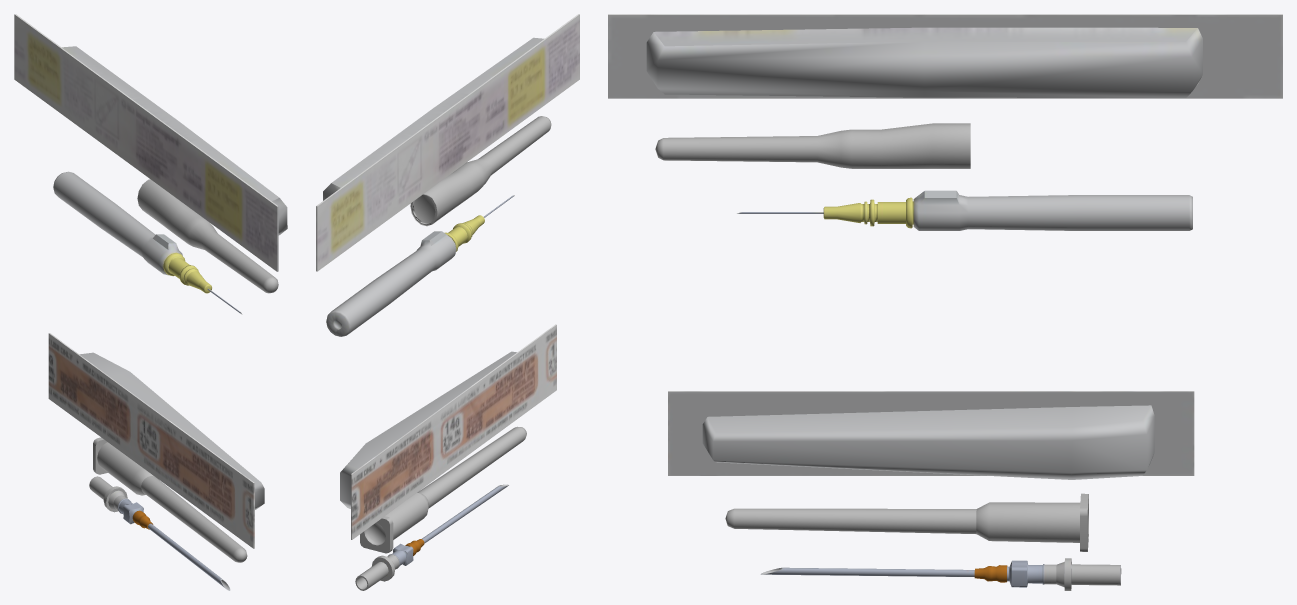
Rendered from needles.obj.
3 renders of one model, left to right at view 1: azimuth 30°, elevation 25°; view 2: azimuth 150°, elevation 25°; view 3: azimuth 270°, elevation 25°, orthographic. The views are drawn at different scales.
Parts seen in each view (by area): view 1: Package_7x19_All_Tools_0, Package_57_All_Tools_0, Needle_7x19_All_Tools_0, Case_7x19_All_Tools_0, Case_57_All_Tools_0, Needle_57_All_Tools_0; view 2: Package_7x19_All_Tools_0, Package_57_All_Tools_0, Needle_7x19_All_Tools_0, Case_57_All_Tools_0, Case_7x19_All_Tools_0, Needle_57_All_Tools_0; view 3: Package_7x19_All_Tools_0, Package_57_All_Tools_0, Needle_7x19_All_Tools_0, Case_57_All_Tools_0, Case_7x19_All_Tools_0, Needle_57_All_Tools_0.
Boxes of the visible parts, x1,y1,x2,y2 form: Package_7x19_All_Tools_0: (14,14,287,271); Package_57_All_Tools_0: (48,333,264,548); Needle_7x19_All_Tools_0: (53,171,242,314); Case_7x19_All_Tools_0: (137,179,278,293); Case_57_All_Tools_0: (93,437,247,562); Needle_57_All_Tools_0: (89,476,230,590); Package_7x19_All_Tools_0: (316,14,579,271); Package_57_All_Tools_0: (340,324,556,539); Needle_7x19_All_Tools_0: (326,195,514,336); Case_57_All_Tools_0: (360,426,526,553); Case_7x19_All_Tools_0: (410,116,551,226); Needle_57_All_Tools_0: (355,484,508,590); Package_7x19_All_Tools_0: (608,14,1282,98); Package_57_All_Tools_0: (668,391,1194,479); Needle_7x19_All_Tools_0: (737,190,1192,230); Case_57_All_Tools_0: (725,493,1088,551); Case_7x19_All_Tools_0: (655,123,970,168); Needle_57_All_Tools_0: (760,558,1121,590).
Bounding box in the file's own units: 0.0289 × 0.3238 × 0.3509.
